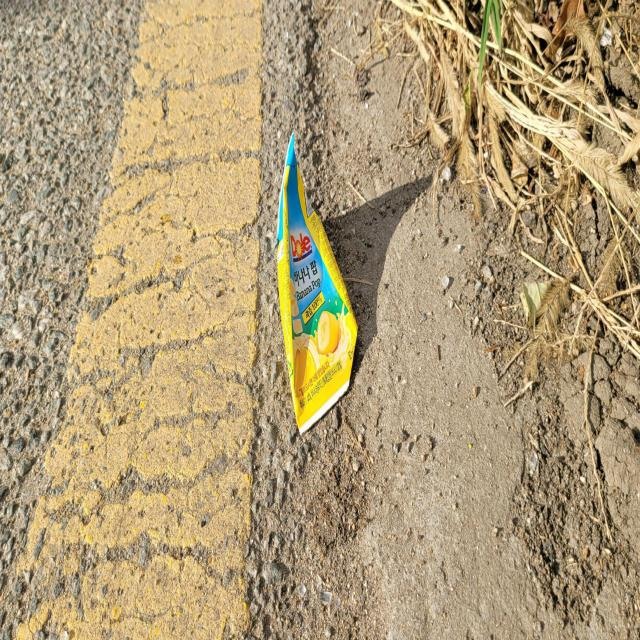paperpack: (276, 132, 358, 433)
